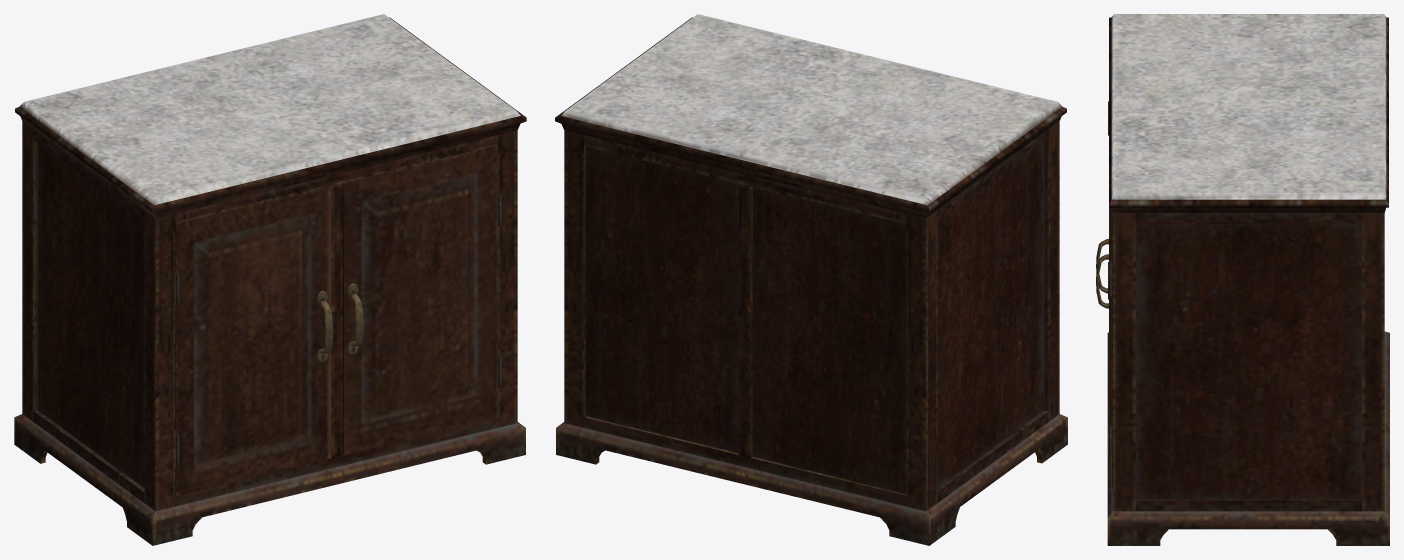
The model's file is 149_Closet.fbx.
3 views of the same model, side by side, from view 1: azimuth 30°, elevation 25°; view 2: azimuth 150°, elevation 25°; view 3: azimuth 270°, elevation 25° (orthographic).
Parts seen in each view (by area): view 1: LOD_1_Group_0_Sub_1__sm30_149_Closet01A_A_Mat, LOD_1_Group_1_Sub_1__sm30_149_Closet01A_A_Mat, LOD_1_Group_2_Sub_1__sm30_149_Closet01A_A_Mat; view 2: LOD_1_Group_0_Sub_1__sm30_149_Closet01A_A_Mat; view 3: LOD_1_Group_0_Sub_1__sm30_149_Closet01A_A_Mat, LOD_1_Group_2_Sub_1__sm30_149_Closet01A_A_Mat.
Boxes of the visible parts, x1,y1,x2,y2 form: LOD_1_Group_0_Sub_1__sm30_149_Closet01A_A_Mat: (14,14,526,545); LOD_1_Group_1_Sub_1__sm30_149_Closet01A_A_Mat: (175,186,332,495); LOD_1_Group_2_Sub_1__sm30_149_Closet01A_A_Mat: (343,145,497,454); LOD_1_Group_0_Sub_1__sm30_149_Closet01A_A_Mat: (555,14,1067,545); LOD_1_Group_0_Sub_1__sm30_149_Closet01A_A_Mat: (1107,14,1389,545); LOD_1_Group_2_Sub_1__sm30_149_Closet01A_A_Mat: (1096,207,1112,490).
Bounding box in the file's own units: 1.04 × 0.9075 × 0.6913.
